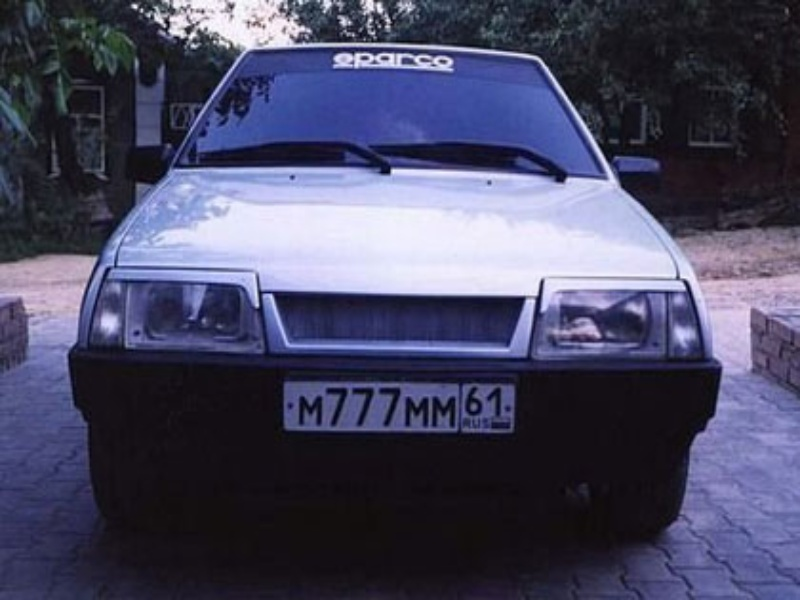car: (69, 44, 723, 534)
plate: (283, 382, 514, 431)
